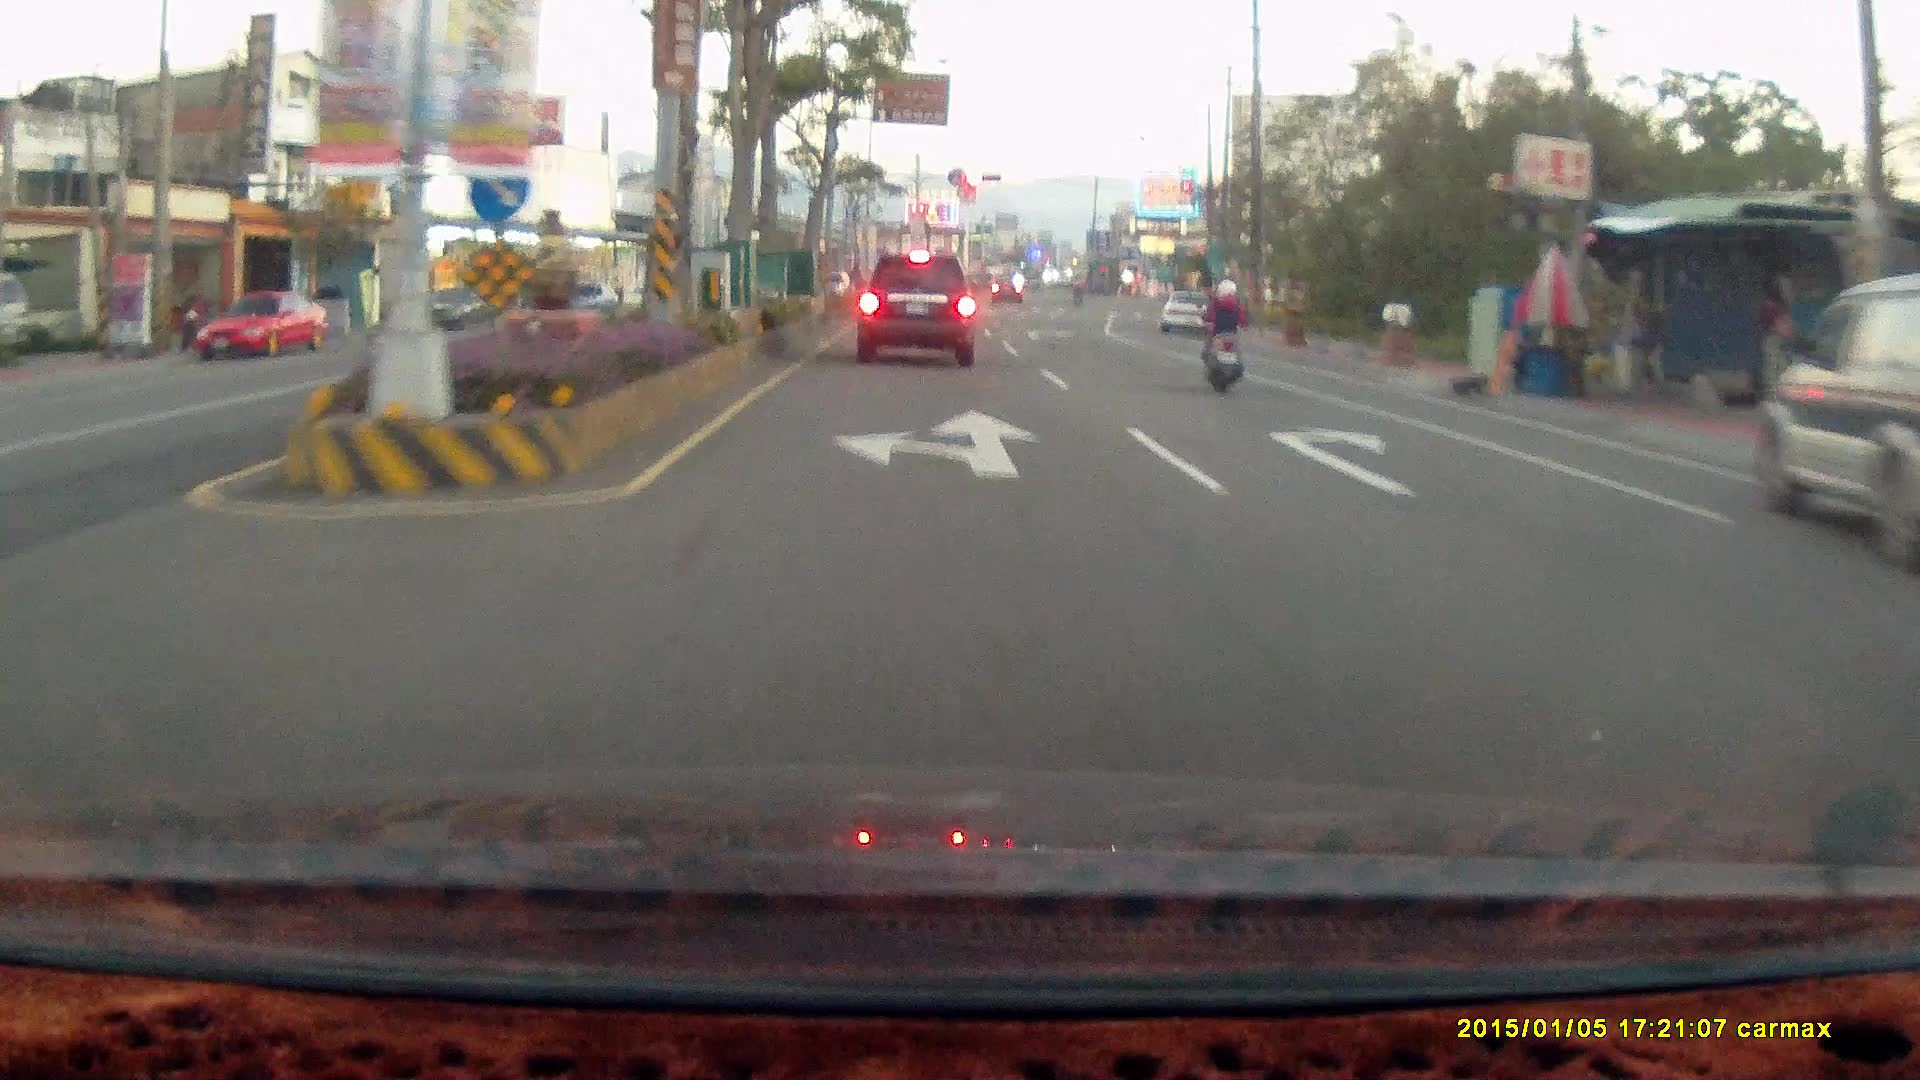rider: (1197, 278, 1247, 397)
vehicle: (1757, 270, 1920, 572), (856, 254, 974, 367), (193, 290, 331, 362), (1896, 493, 1920, 836), (1883, 528, 1920, 690), (411, 292, 511, 340), (1160, 290, 1220, 339), (1159, 290, 1218, 338)
